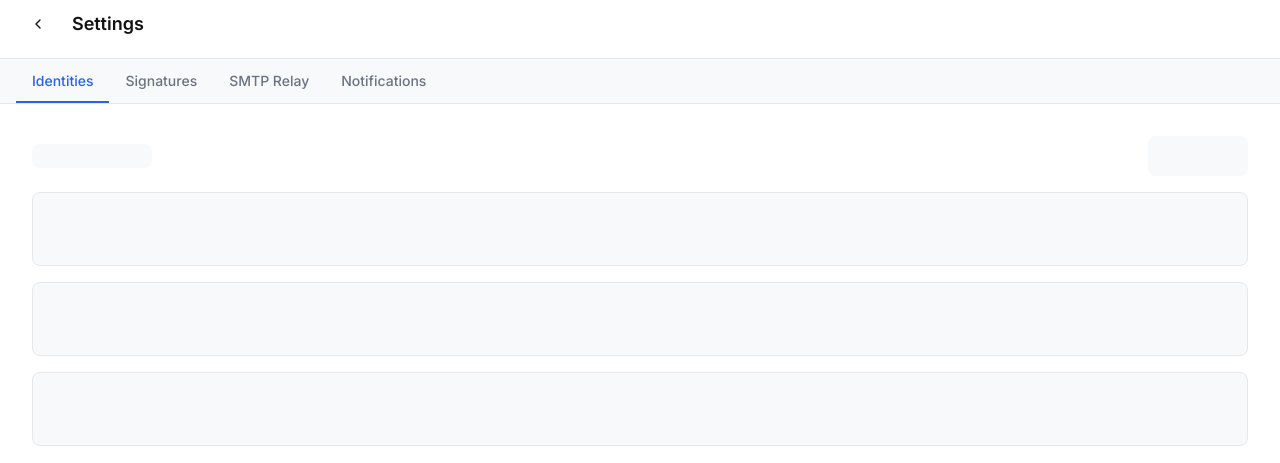
it: Settings › signatures tab › shows error state on fetch failure
Click the tab "Signatures". click: point(161, 81)
box: [110,59,213,103]
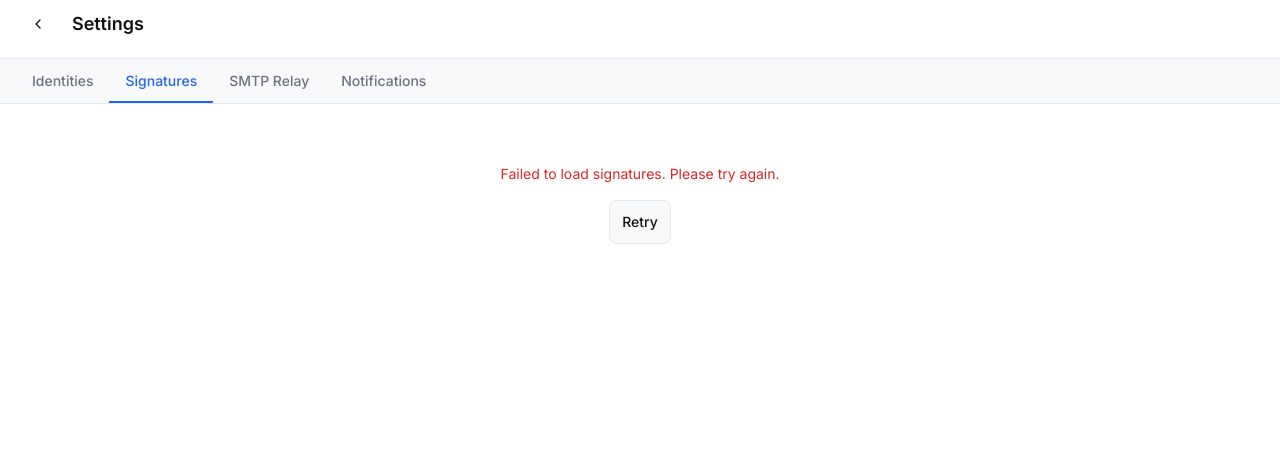
expect the text "Failed to load signatures. Please try again." is shown: met, box [500,164,780,184]
